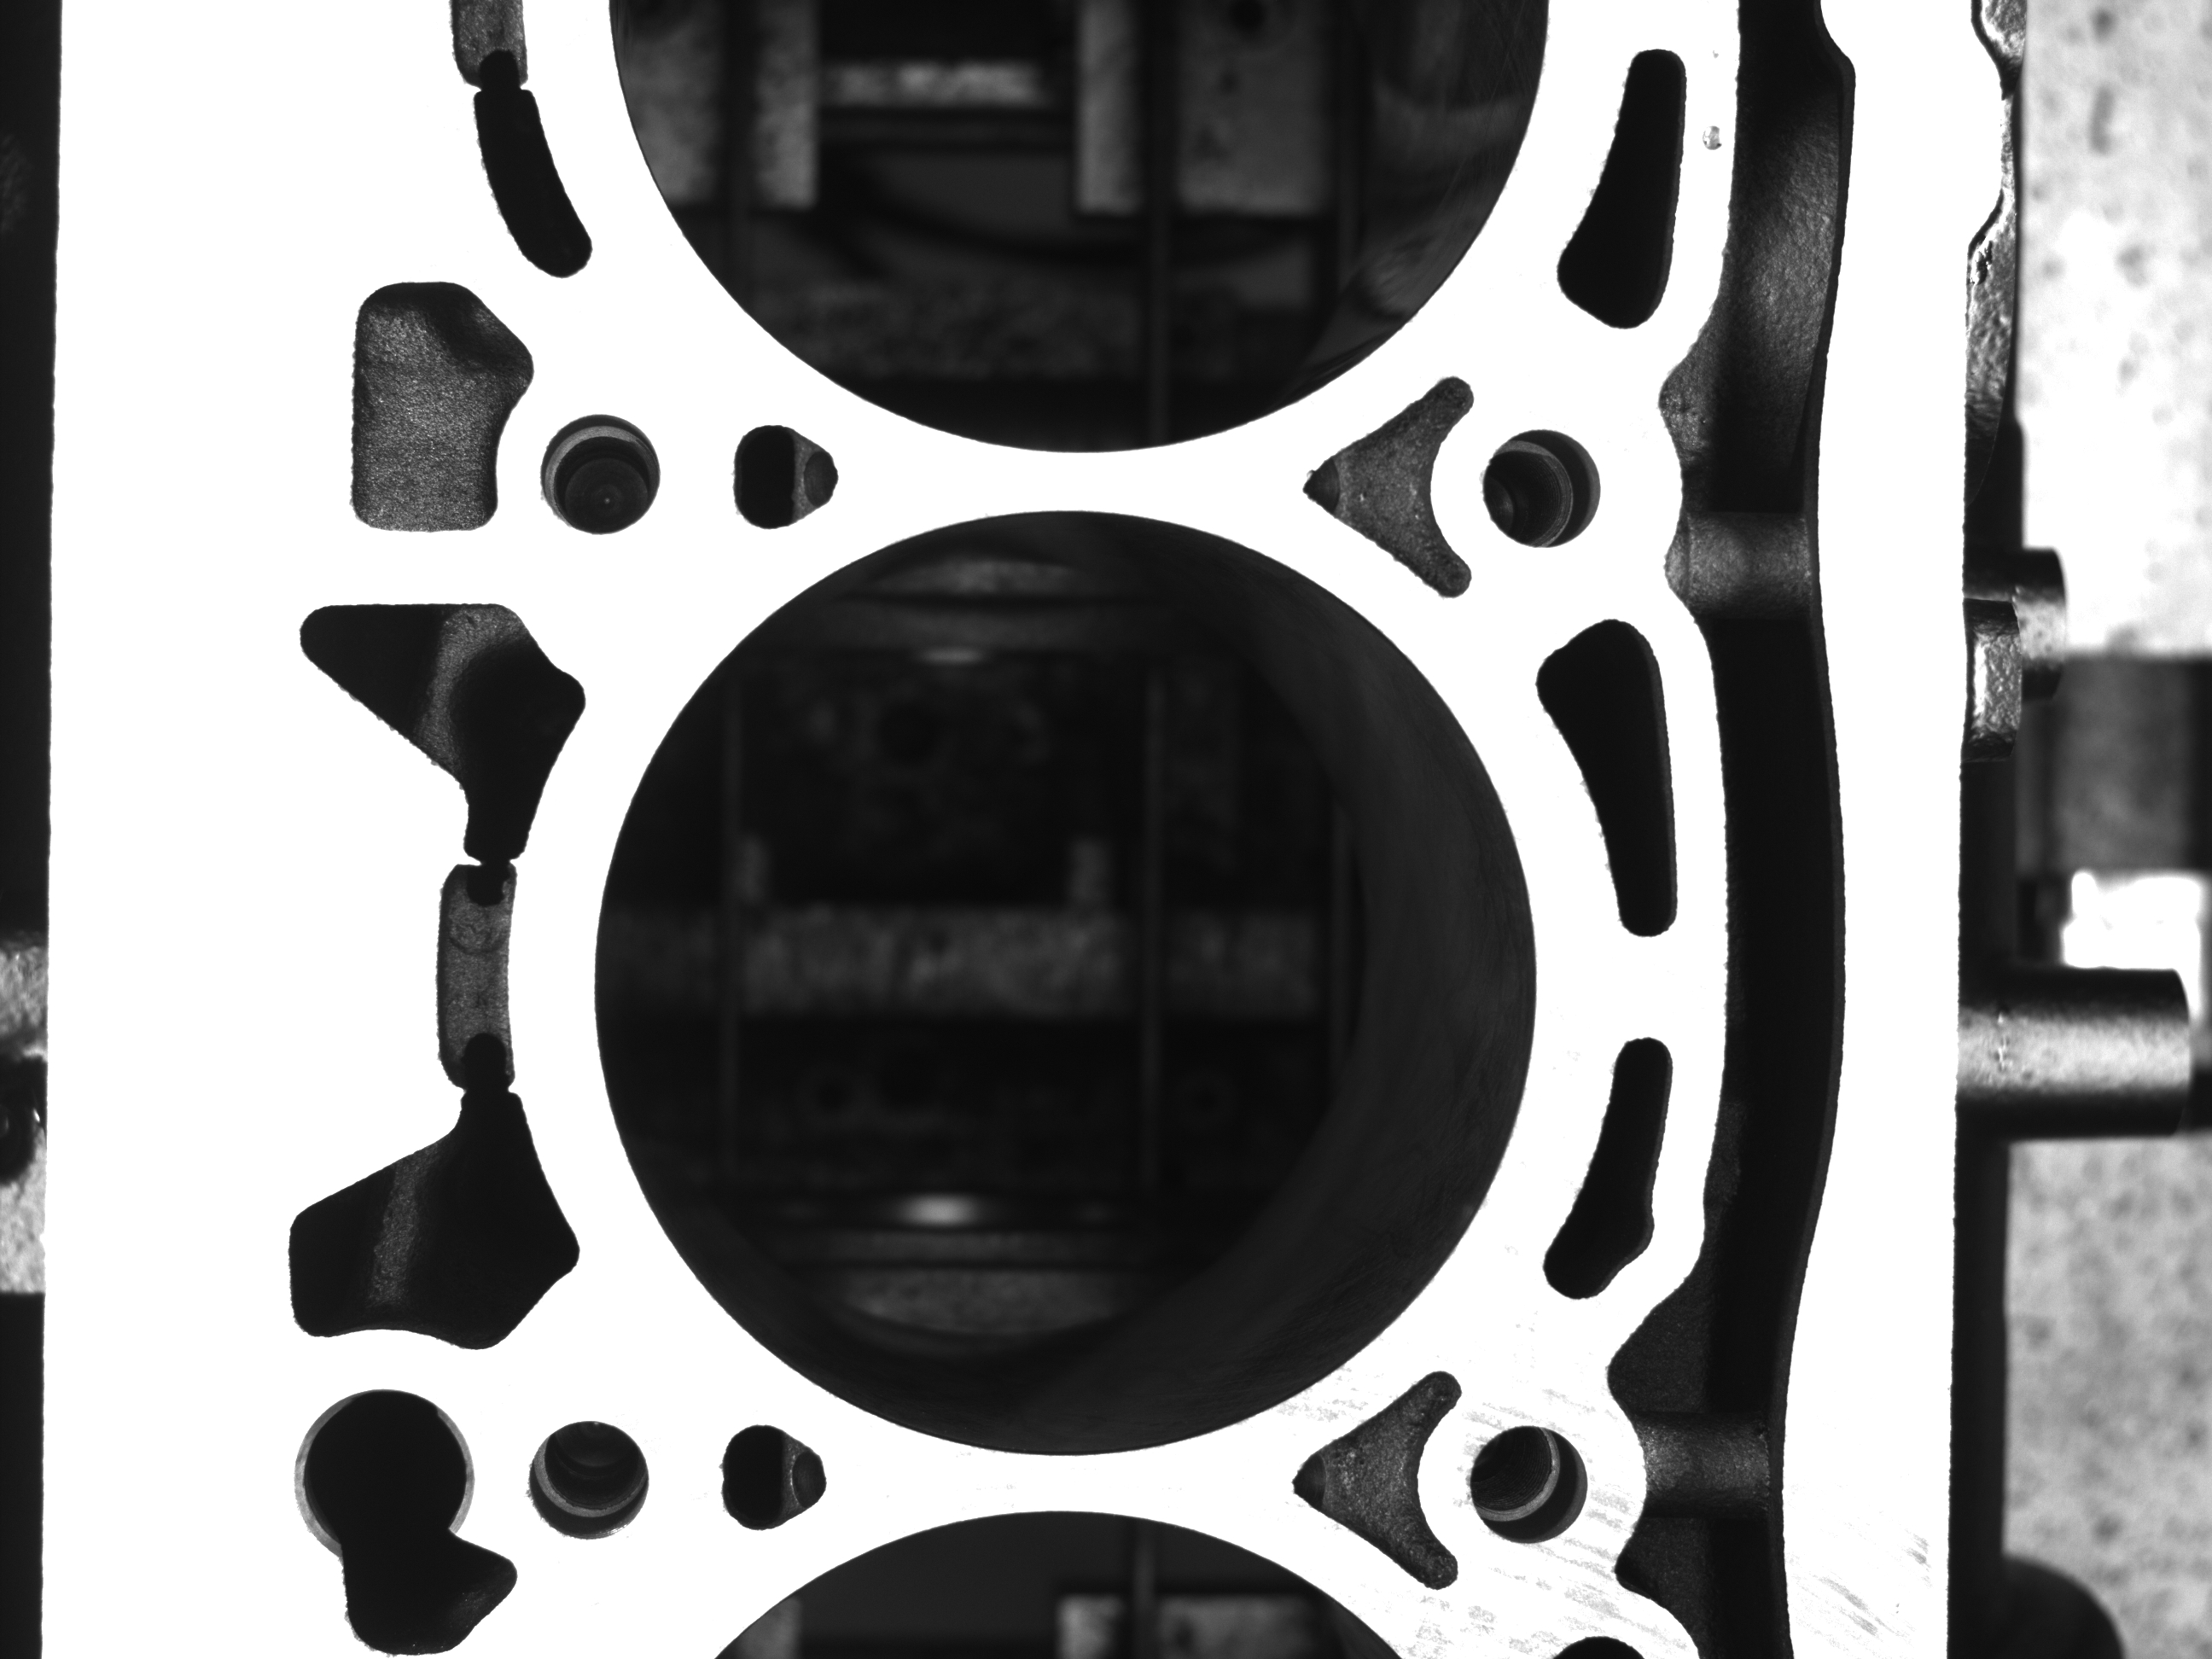crackle: (1693, 115, 1728, 160)
